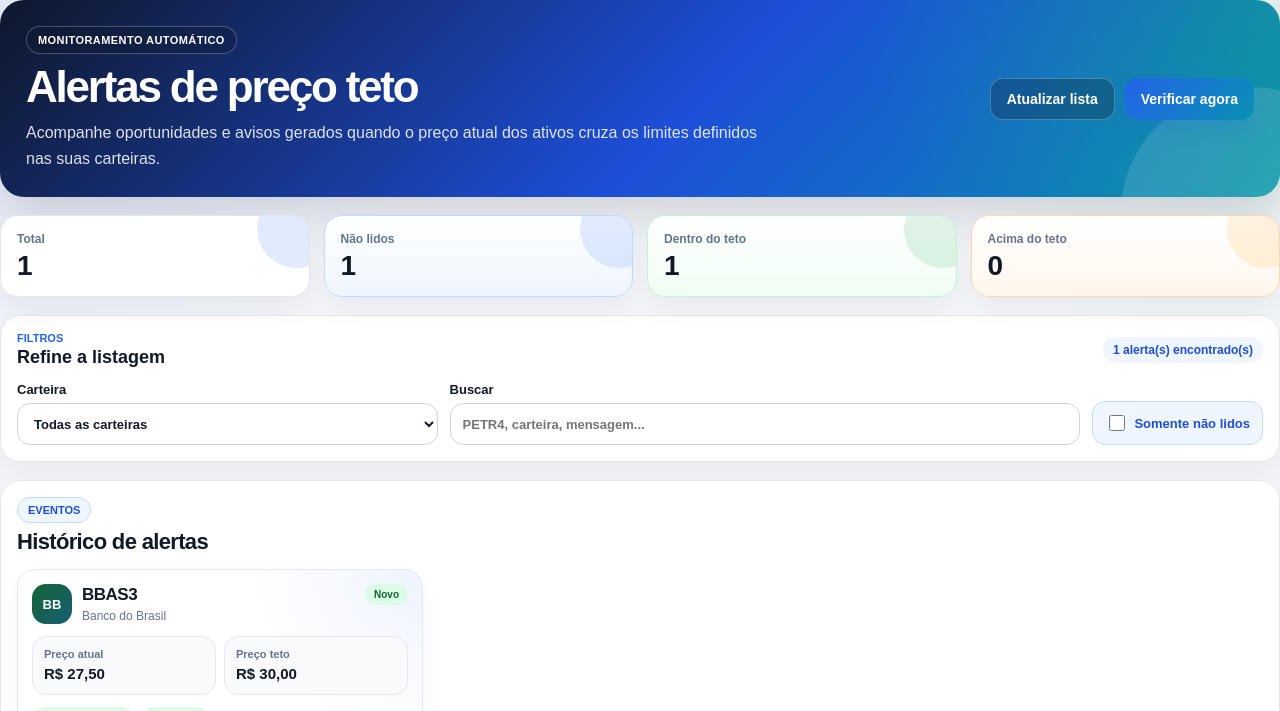
AlertEventsPage › executa a verificação manual de alertas
Expected: the heading "BBAS3" is shown, 82,585 -> 137,604
Click the button "Verificar agora": (1189, 99) 1125,78 -> 1254,120
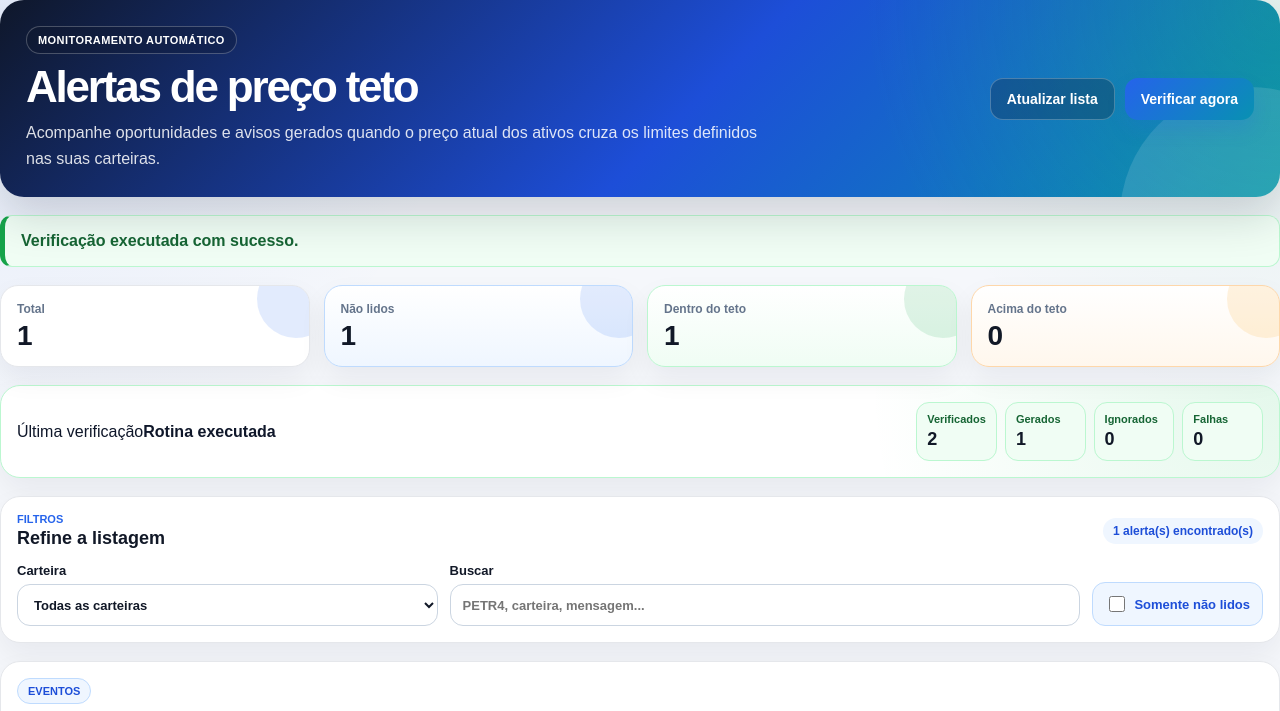
Now the text "Verificação executada com sucesso." is shown, box 0,215 -> 1279,267
Now the text "Verificados" is shown, box 927,413 -> 986,425
Now the text "Gerados" is shown, box 1016,413 -> 1060,425
